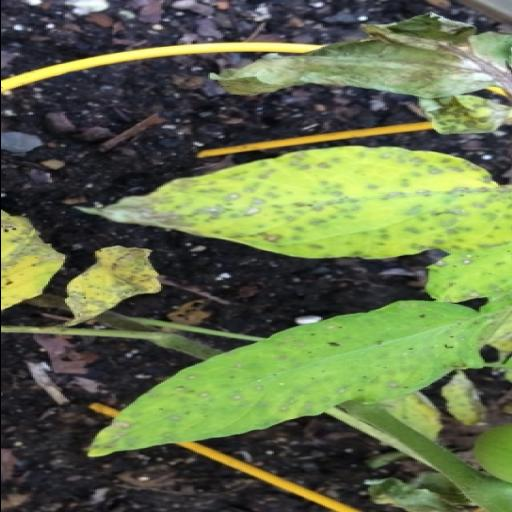Septoria: (77, 297, 495, 460), (68, 144, 496, 260), (55, 242, 164, 326)
